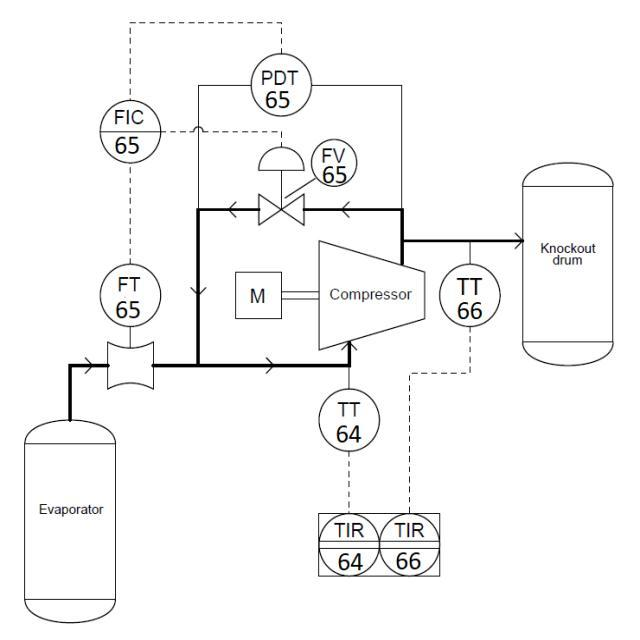Pneumatic-Diaphragm Gate Valve: (250, 136, 312, 232)
